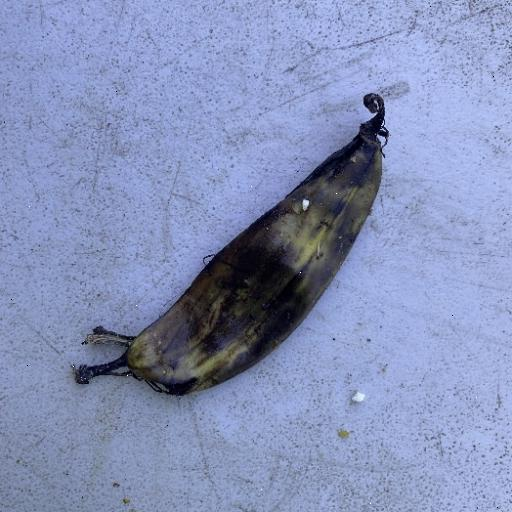Waste: (70, 91, 390, 399)
